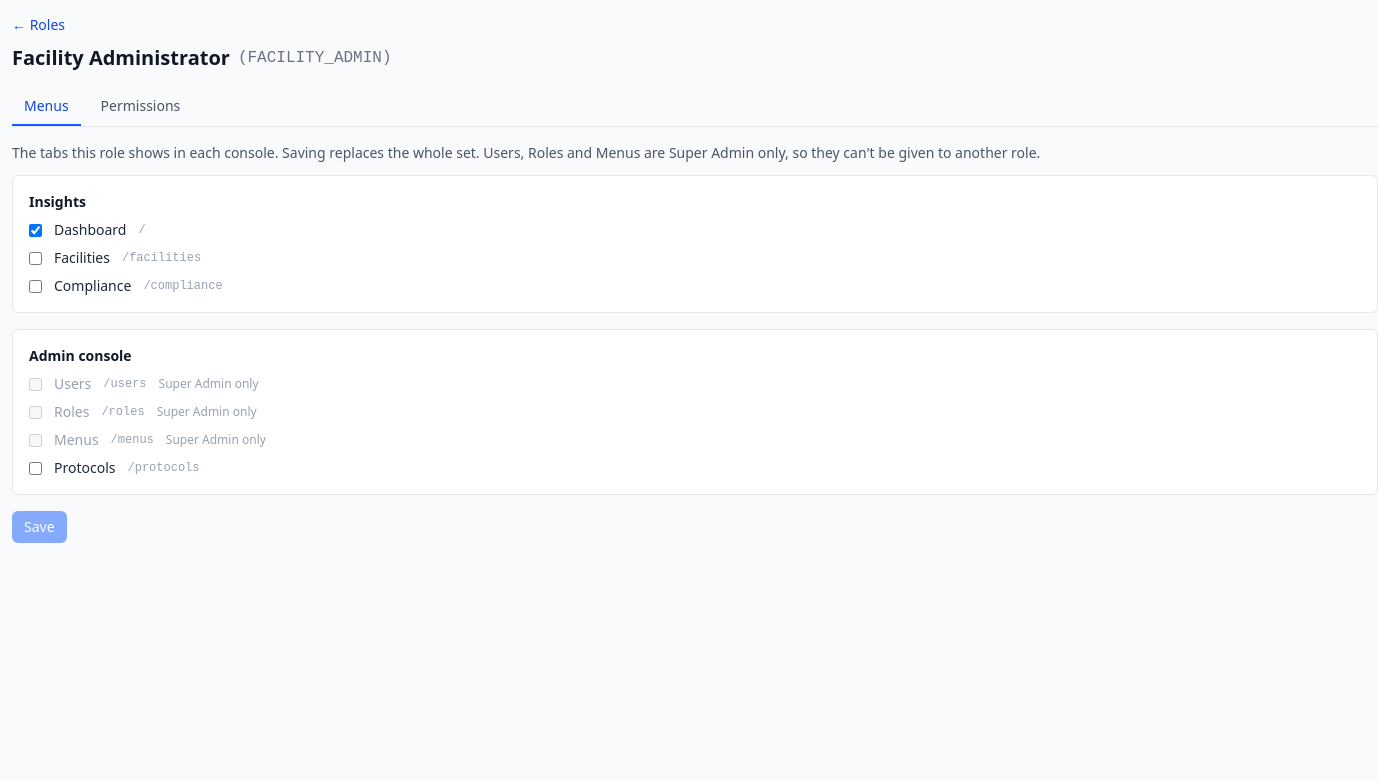
Test: RoleDetailPage — Menus tab, admin tab rules (Milestone 7) › lets a custom role take the Protocols tab and sends it in the complete set
Check: the checkbox labelled "Dashboard /" is shown, box [29,224,42,236]
Click the checkbox labelled "Protocols /protocols": click(36, 468) [29,462,42,474]
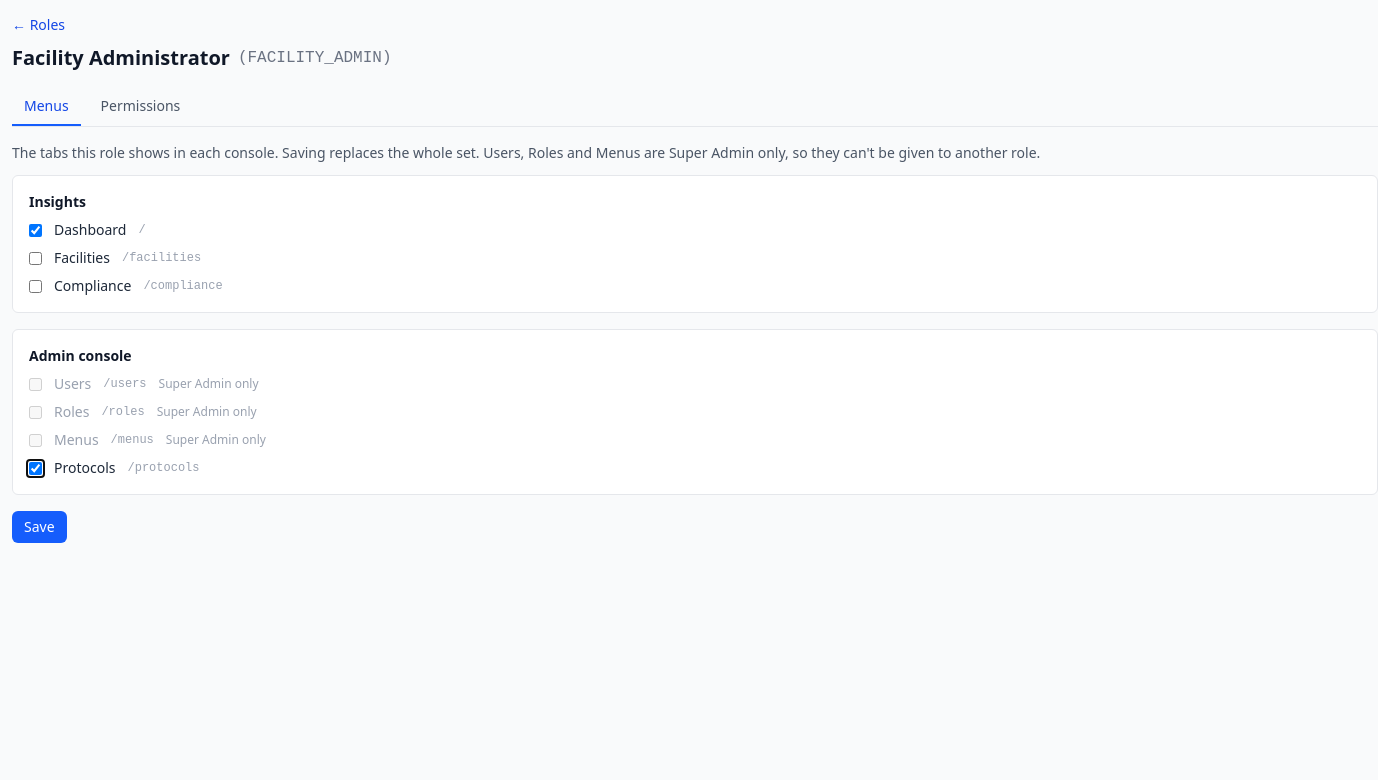
Click the button "Save": click(39, 527) [12,511,67,543]
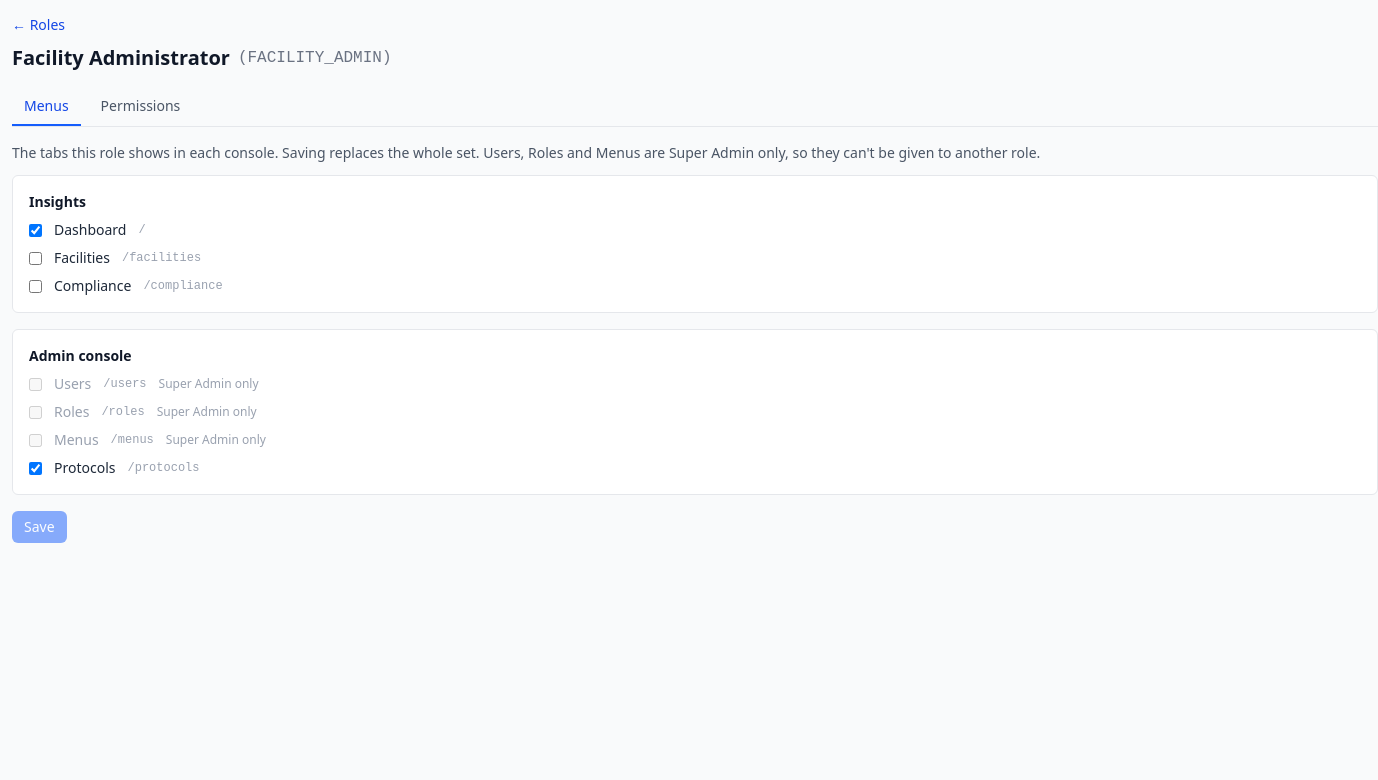
Check: the button "Save" is disabled, box [12,511,67,543]
